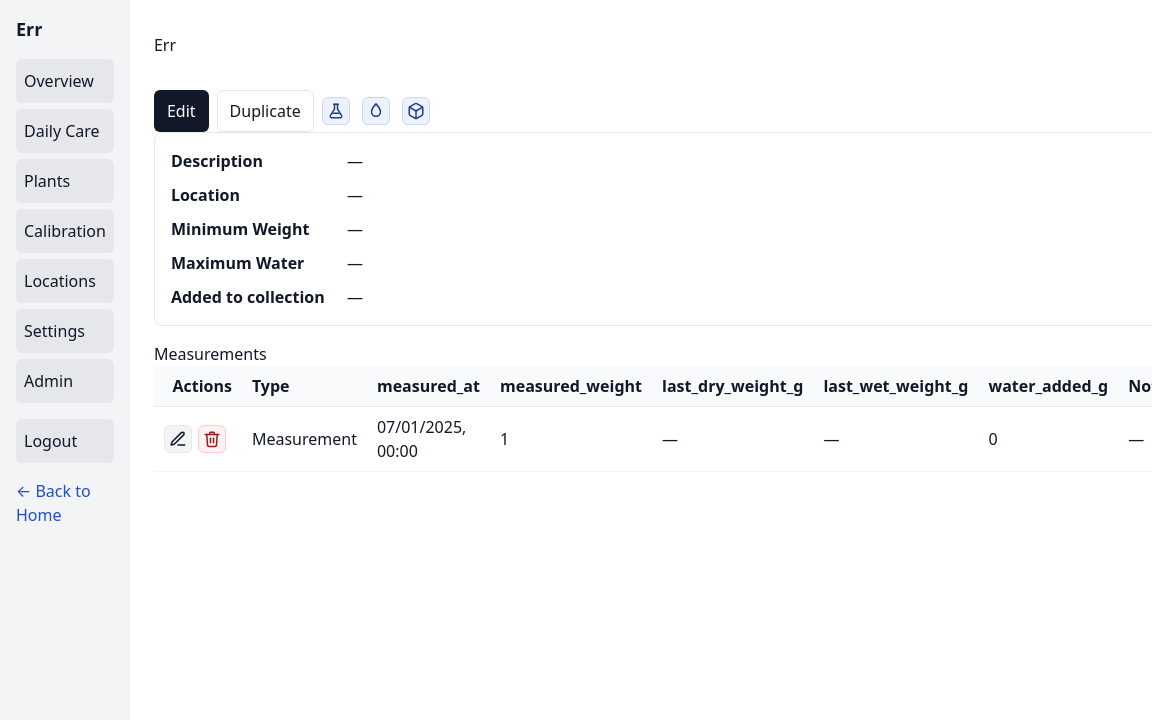
Test: pages/PlantDetails › delete API error is ignored and list refetches; dialog closes
Click the button named "delete".
click(212, 438)  # box [198,424,226,452]
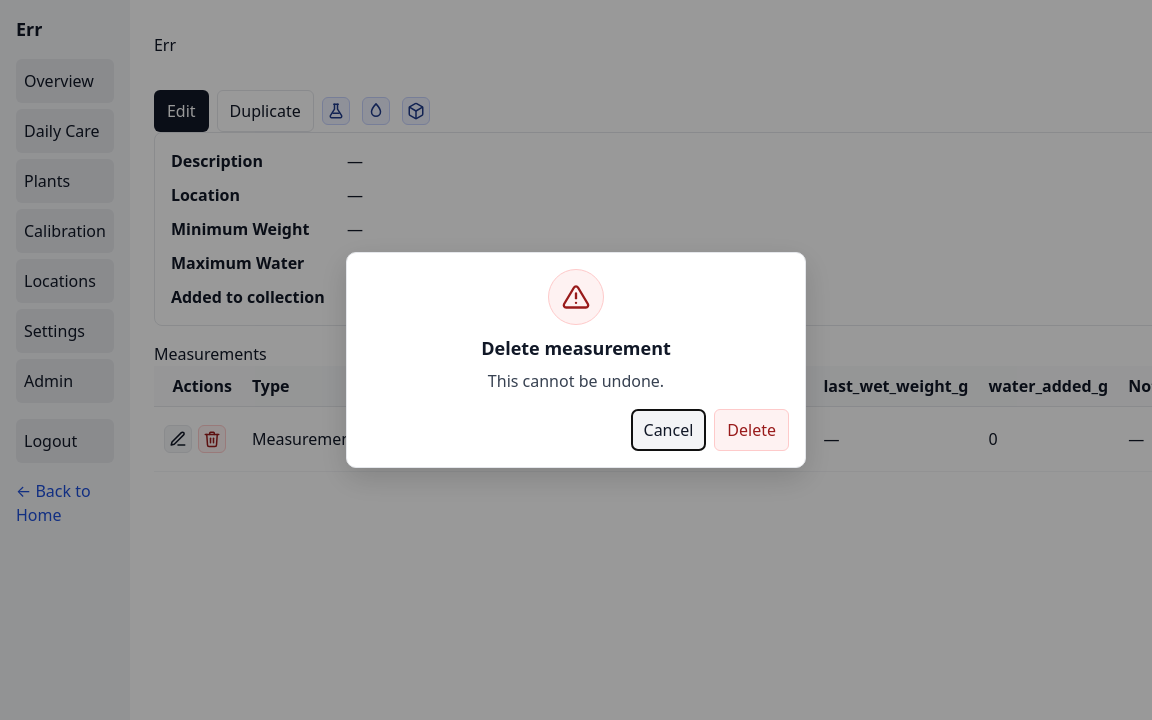
Click the button "Delete".
click(752, 430)  # box [714,409,789,451]
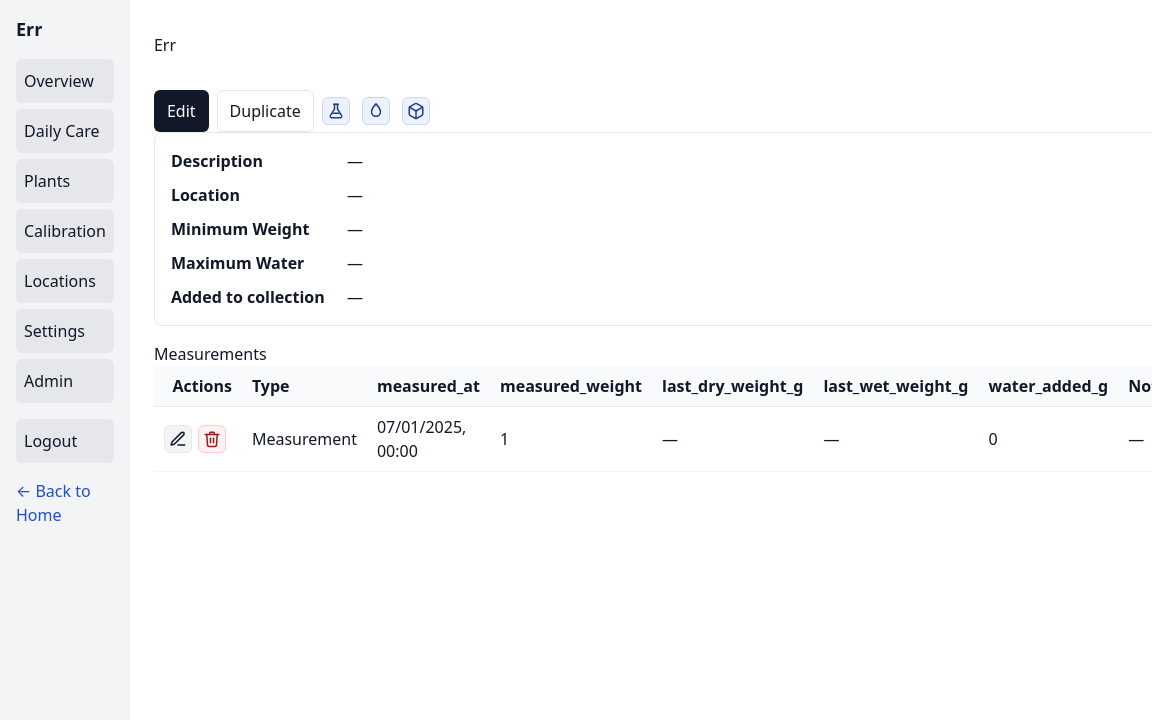
Expected: the dialog is gone
